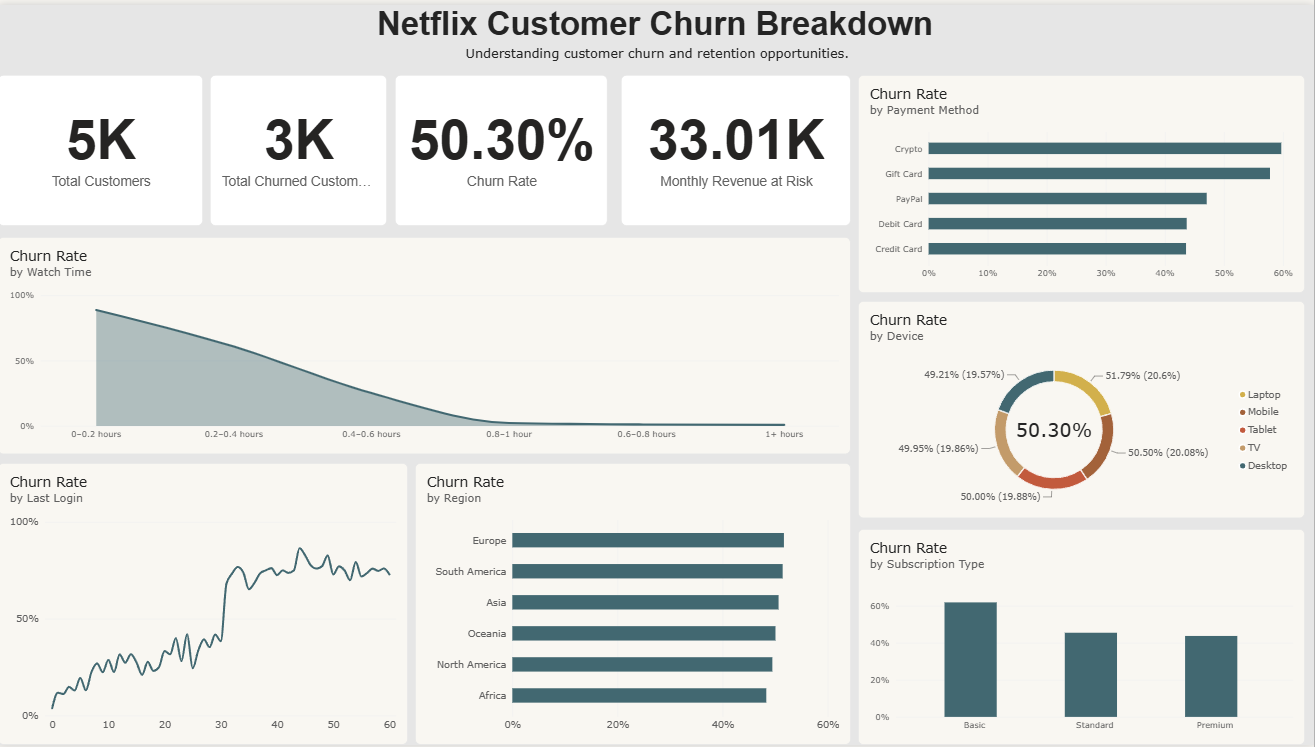

Layout of this report page (visuals, bound fields, positions):
{"tool":"powerbi","page":{"name":"Page 1","canvas":[1920,1080],"ordinal":0},"visuals":[{"type":"textbox","box":[10.2,0,1909.8,58.4],"z":0},{"type":"textbox","box":[10.2,58.4,1909.8,43.8],"z":1000},{"type":"cardVisual","fields":{"Data":["Count(modified_netflix_customer_churn.customer_id)"]},"box":[0,102.1,299.1,220.3],"z":2000},{"type":"cardVisual","fields":{"Data":["Sum(modified_netflix_customer_churn.churned)"]},"box":[309.3,102.1,258.2,220.3],"z":3000},{"type":"cardVisual","fields":{"Data":["modified_netflix_customer_churn.Churn Rate"]},"box":[579.2,102.1,310.8,220.3],"z":4000},{"type":"cardVisual","fields":{"Data":["Sum(monthly_lost_revenue.Sum of monthly_lost_revenue)"]},"box":[908.9,102.1,335.6,220.3],"z":5000},{"type":"lineChart","fields":{"Category":["modified_netflix_customer_churn.last_login_days"],"Y":["modified_netflix_customer_churn.Churn Rate"]},"box":[0,668.2,598.2,411.4],"z":6000},{"type":"barChart","fields":{"Category":["modified_netflix_customer_churn.region"],"Y":["modified_netflix_customer_churn.Churn Rate"]},"box":[608.4,668.2,636.1,411.4],"z":7000},{"type":"columnChart","fields":{"Category":["modified_netflix_customer_churn.subscription_type"],"Y":["modified_netflix_customer_churn.Churn Rate"]},"box":[1254.7,764.5,652.2,315.1],"z":8000},{"type":"areaChart","fields":{"Category":["modified_netflix_customer_churn.watch_time_group"],"Y":["modified_netflix_customer_churn.Churn Rate"]},"box":[0,338.5,1244.5,316.6],"z":9000},{"type":"donutChart","fields":{"Category":["modified_netflix_customer_churn.device"],"Y":["modified_netflix_customer_churn.Churn Rate"]},"box":[1254.7,431.9,652.2,316.6],"z":10000},{"type":"clusteredBarChart","fields":{"Category":["modified_netflix_customer_churn.payment_method"],"Y":["modified_netflix_customer_churn.Churn Rate"]},"box":[1254.7,102.1,652.2,318.1],"z":10001}]}

Visuals, with their boxes in screenshot pixels (x1, y1, x2, y2), scaled from the page's 1920x1080 canvas onto the 1315x747 screenshot:
textbox: <region>7, 0, 1314, 40</region>
textbox: <region>7, 40, 1314, 71</region>
cardVisual - Count(modified_netflix_customer_churn.customer_id): <region>0, 71, 205, 223</region>
cardVisual - Sum(modified_netflix_customer_churn.churned): <region>212, 71, 389, 223</region>
cardVisual - modified_netflix_customer_churn.Churn Rate: <region>397, 71, 610, 223</region>
cardVisual - Sum(monthly_lost_revenue.Sum of monthly_lost_revenue): <region>623, 71, 852, 223</region>
lineChart - modified_netflix_customer_churn.last_login_days x modified_netflix_customer_churn.Churn Rate: <region>0, 462, 410, 746</region>
barChart - modified_netflix_customer_churn.region x modified_netflix_customer_churn.Churn Rate: <region>417, 462, 852, 746</region>
columnChart - modified_netflix_customer_churn.subscription_type x modified_netflix_customer_churn.Churn Rate: <region>859, 529, 1306, 746</region>
areaChart - modified_netflix_customer_churn.watch_time_group x modified_netflix_customer_churn.Churn Rate: <region>0, 234, 852, 453</region>
donutChart - modified_netflix_customer_churn.device x modified_netflix_customer_churn.Churn Rate: <region>859, 299, 1306, 518</region>
clusteredBarChart - modified_netflix_customer_churn.payment_method x modified_netflix_customer_churn.Churn Rate: <region>859, 71, 1306, 291</region>
